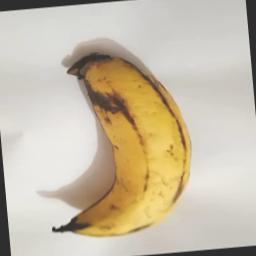Banana Unripe: (26, 44, 203, 242)
